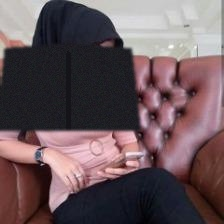Cadar_Niqab: (0, 0, 140, 130)
